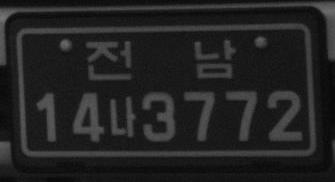1: (33, 91, 63, 142)
2: (266, 89, 304, 143)
3: (141, 90, 176, 143)
4: (71, 91, 104, 142)
7: (223, 89, 259, 143), (181, 89, 217, 142)
나: (108, 94, 136, 139)
전남_D: (84, 38, 236, 82)
